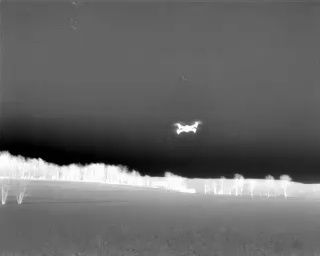DRONE: (168, 115, 205, 141)
